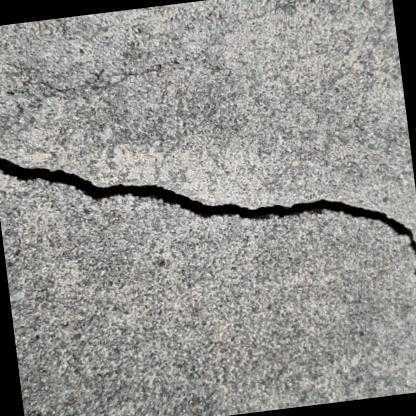crack: (0, 152, 416, 276)
